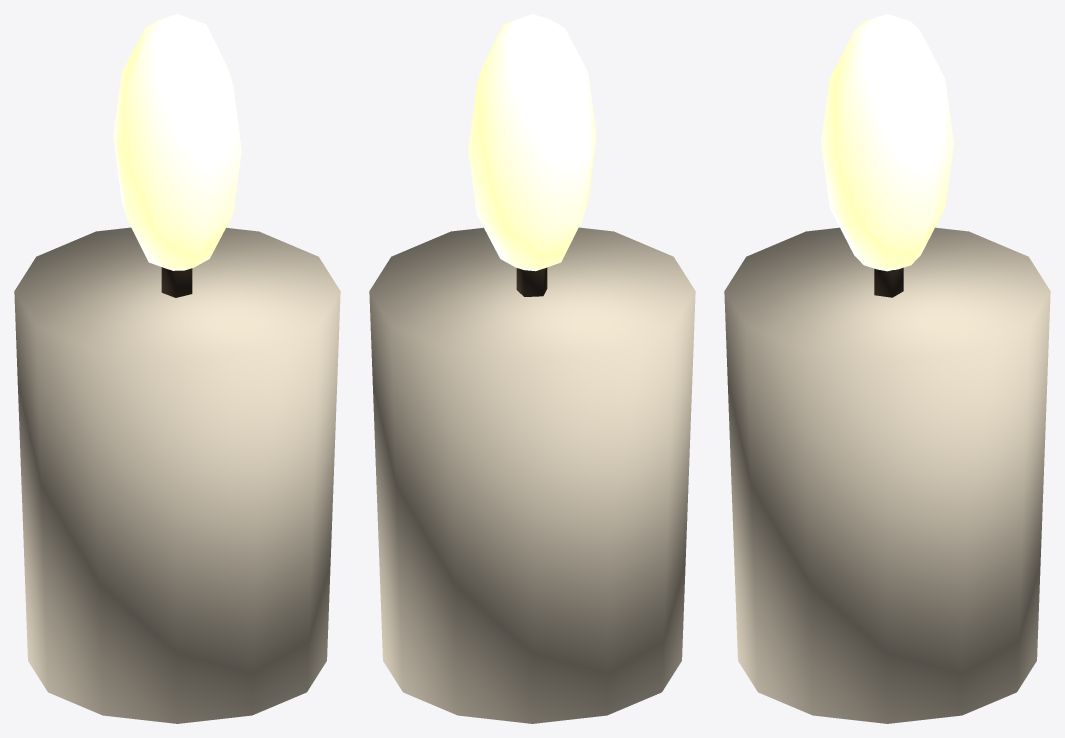
The model's file is xy_item_candle.glb.
The picture shows the model from 3 angles, left to right: view 1: azimuth 30°, elevation 25°; view 2: azimuth 150°, elevation 25°; view 3: azimuth 270°, elevation 25°; orthographic projection.
Parts seen in each view (by area): view 1: xy_item_candle; view 2: xy_item_candle; view 3: xy_item_candle.
Boxes of the visible parts, box(x1,y1,x2,y2) form: xy_item_candle: box(14, 14, 340, 723); xy_item_candle: box(369, 14, 695, 723); xy_item_candle: box(724, 14, 1050, 723).
Size of the model in its own units: 0.24 by 0.525 by 0.24.
